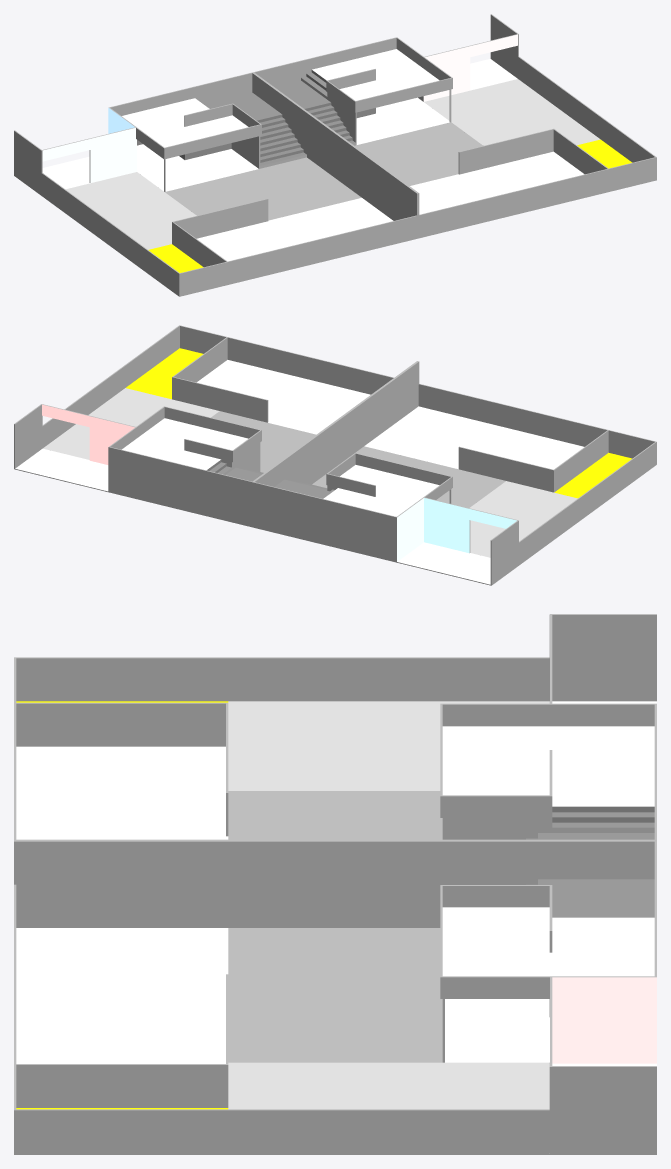
The model's file is world.dae.
3 views of the same model, one above another, from view 1: azimuth 30°, elevation 25°; view 2: azimuth 150°, elevation 25°; view 3: azimuth 270°, elevation 25° (orthographic). The views are drawn at different scales.
Parts seen in each view (by area): view 1: world; view 2: world; view 3: world.
Boxes of the visible parts, x1,y1,x2,y2 form: world: (14,14,656,296); world: (14,325,656,585); world: (14,614,656,1154).
Bounding box in the file's own units: 9 × 5.4 × 0.814.
